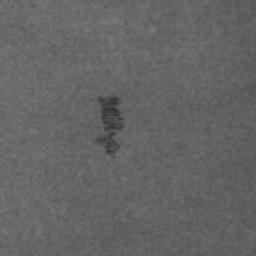Secondary rust skin: (97, 94, 124, 158)
